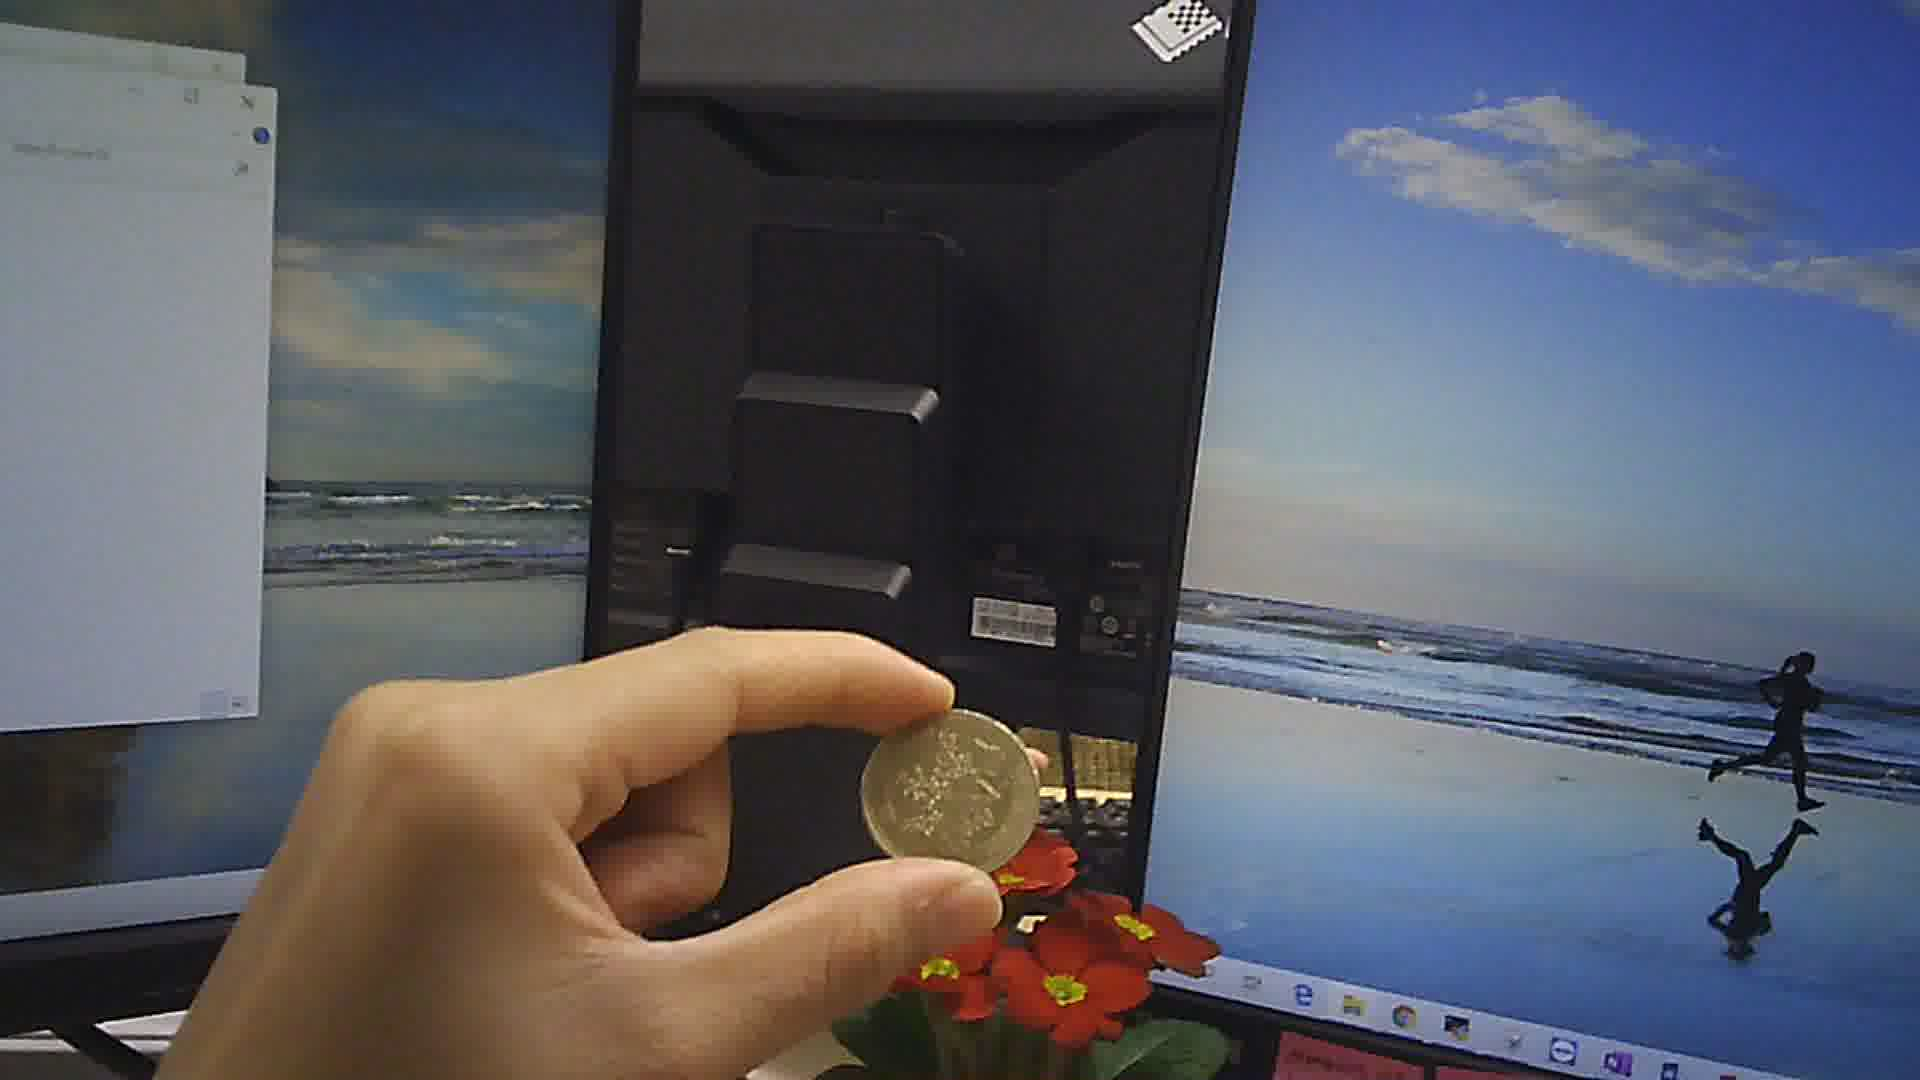500 Yen: (856, 698, 1051, 882)
